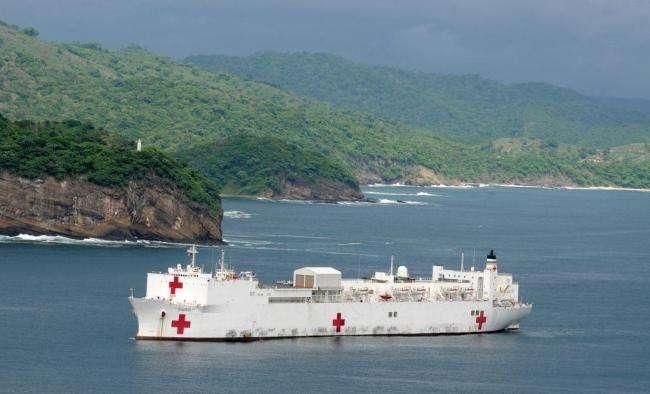warship: (127, 242, 536, 345)
